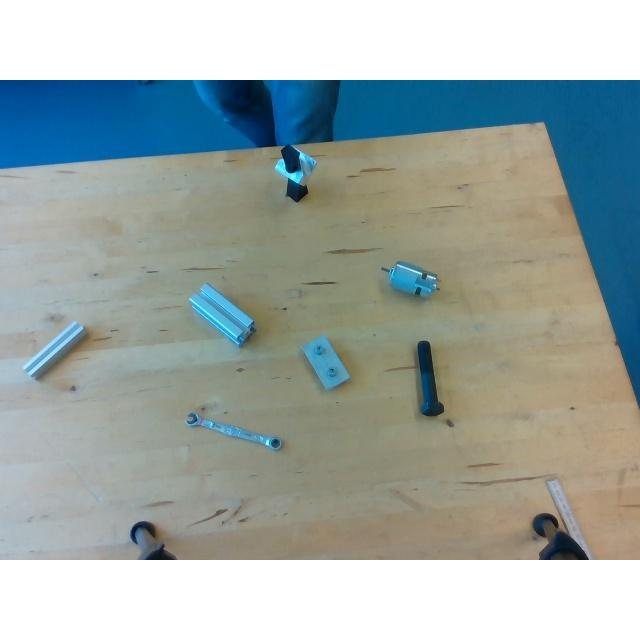F20_20_G: (23, 320, 87, 380)
M20_100: (416, 340, 442, 414)
Motor2: (382, 260, 438, 296)
S40_40_G: (189, 284, 255, 344)
Wrench: (185, 412, 283, 448)
